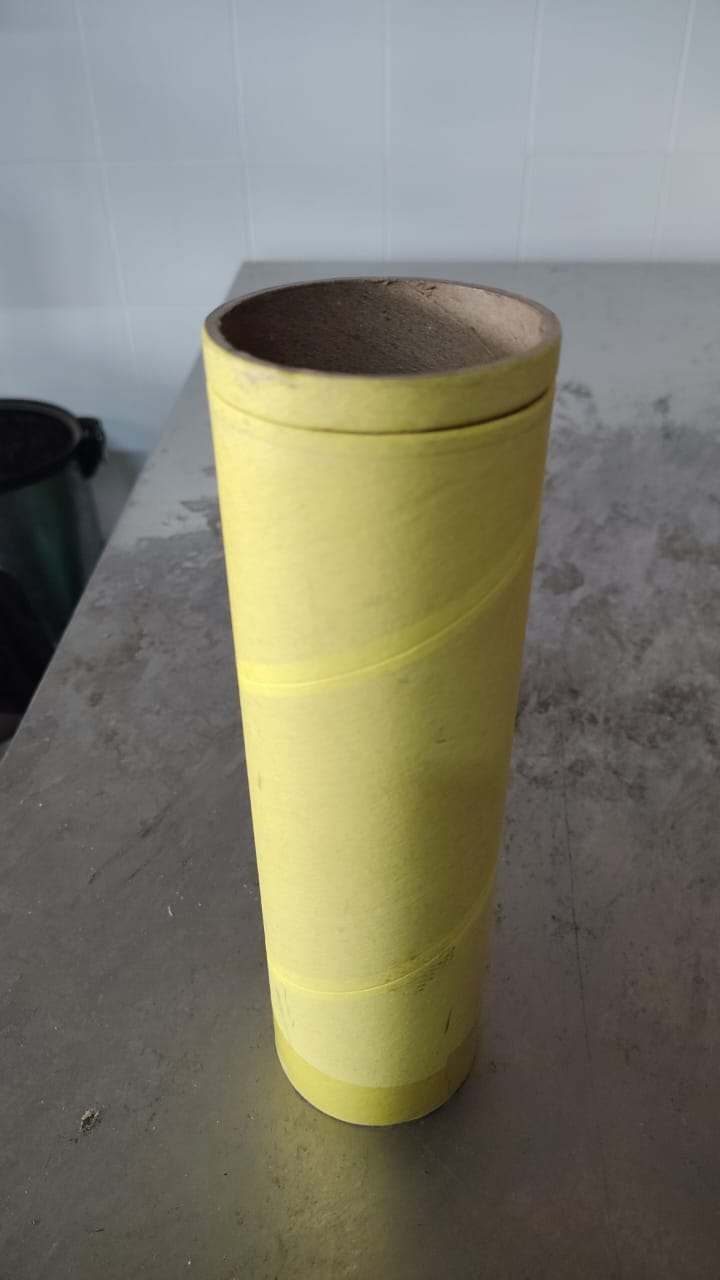Carton: (198, 271, 559, 1128)
